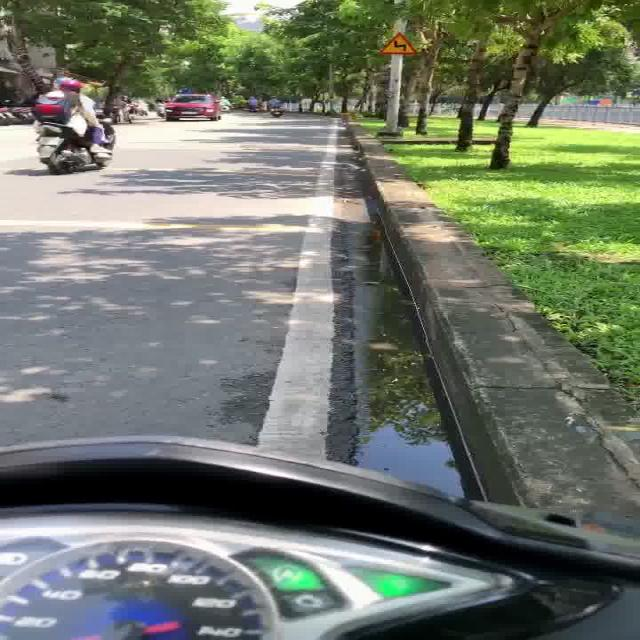Bien bao nhieu cho ngoat nguy hiem lien tiep: (376, 29, 422, 58)
